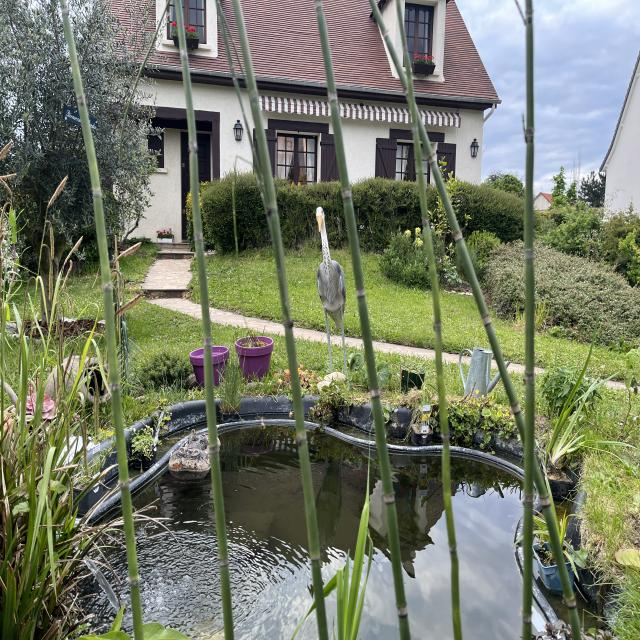Heron: (302, 195, 361, 375)
